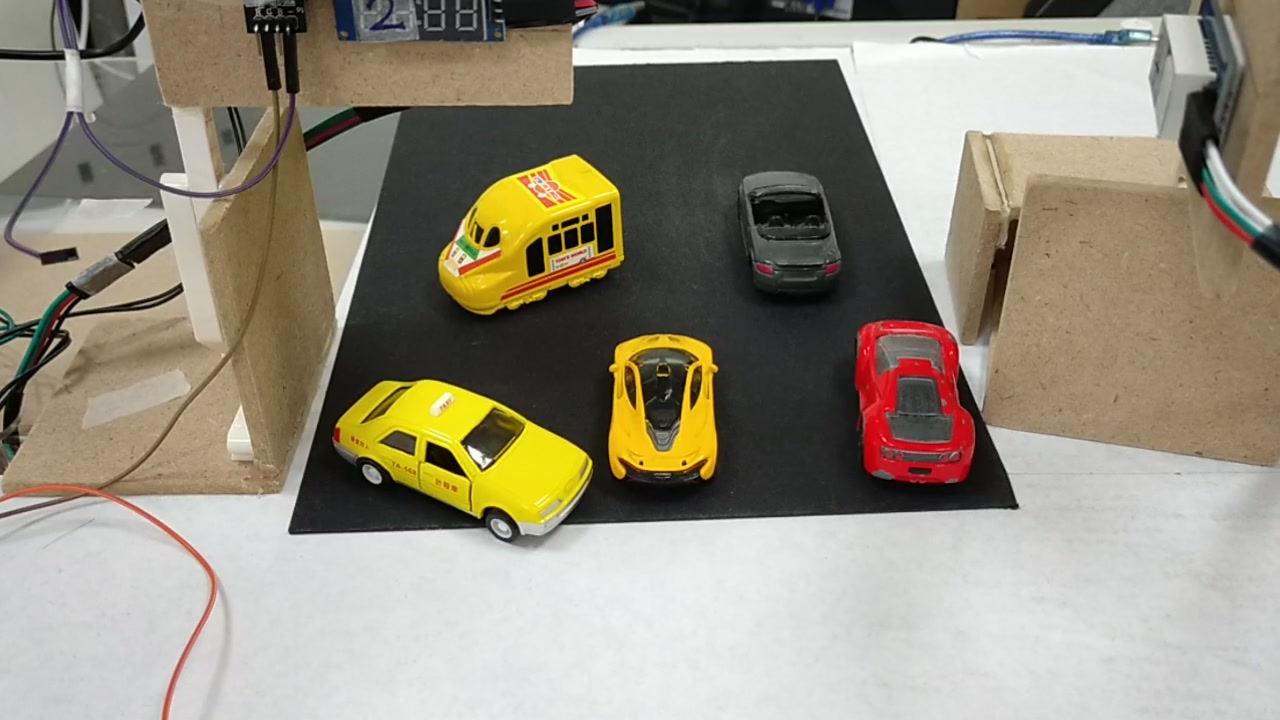car: (330, 371, 588, 549), (851, 324, 969, 486), (605, 341, 721, 486), (739, 170, 843, 297)
